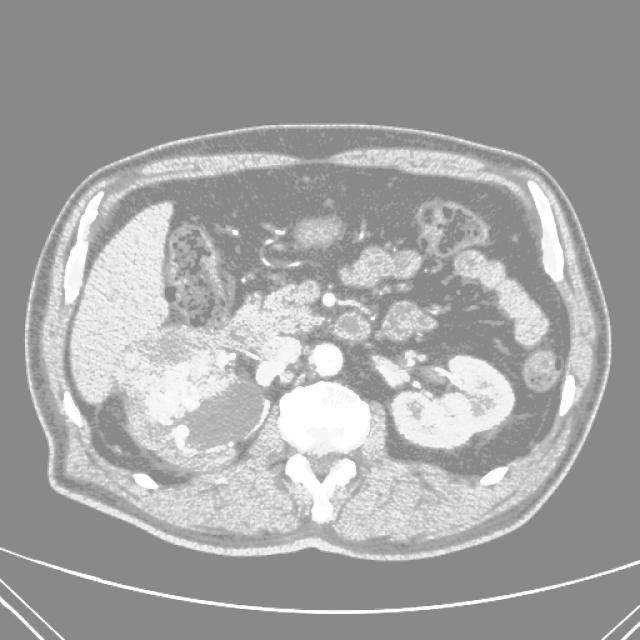TUMOR: (20, 271, 558, 435)
